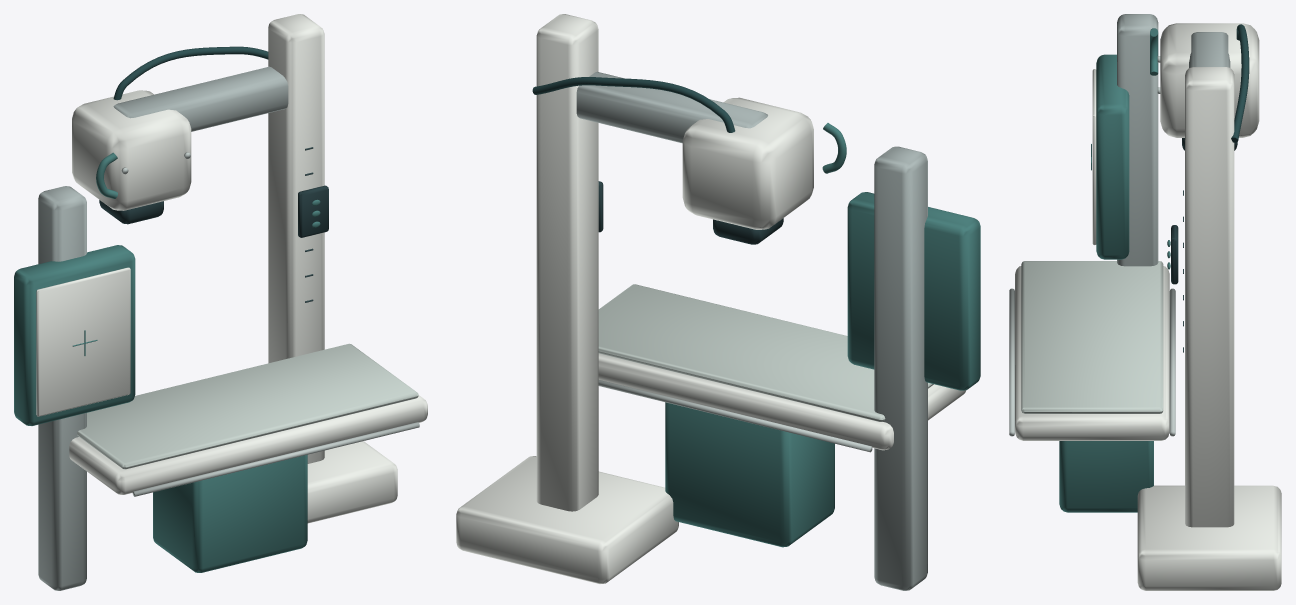
Rendered from xray.glb.
The picture shows the model from 3 angles, left to right: view 1: azimuth 30°, elevation 25°; view 2: azimuth 150°, elevation 25°; view 3: azimuth 270°, elevation 25°; orthographic projection. The views are drawn at different scales.
Parts seen in each view (by area): view 1: TablePad, VerticalSupport, TablePedestal, DetectorSurface, DetectorStand, TubeHousing, TableTop, UprightDetector, ArticulatedArm, GeneratorBase, TableRail, CableConduit (+2 smaller); view 2: VerticalSupport, DetectorStand, TablePad, TablePedestal, GeneratorBase, UprightDetector, TubeHousing, TableTop, ArticulatedArm, CableConduit, TableRail.001, Collimator; view 3: VerticalSupport, TablePad, GeneratorBase, DetectorStand, UprightDetector, TablePedestal, TableTop, TubeHousing, ArticulatedArm, TableRail.001, CableConduit, TableRail (+3 smaller).
Boxes of the visible parts, x1=… form: TablePad: x1=77, y1=343, x2=418, y2=469; VerticalSupport: x1=268, y1=14, x2=324, y2=463; TablePedestal: x1=153, y1=454, x2=307, y2=572; DetectorSurface: x1=36, y1=267, x2=130, y2=416; DetectorStand: x1=38, y1=186, x2=86, y2=590; TubeHousing: x1=72, y1=90, x2=191, y2=210; TableTop: x1=69, y1=395, x2=427, y2=494; UprightDetector: x1=14, y1=245, x2=135, y2=425; ArticulatedArm: x1=113, y1=66, x2=288, y2=131; GeneratorBase: x1=307, y1=441, x2=397, y2=523; TableRail: x1=132, y1=422, x2=419, y2=496; CableConduit: x1=113, y1=46, x2=268, y2=100; VerticalSupport: x1=536, y1=14, x2=598, y2=511; DetectorStand: x1=874, y1=146, x2=927, y2=590; TablePad: x1=598, y1=284, x2=933, y2=421; TablePedestal: x1=665, y1=402, x2=834, y2=547; GeneratorBase: x1=456, y1=456, x2=678, y2=583; UprightDetector: x1=847, y1=192, x2=980, y2=390; TubeHousing: x1=682, y1=97, x2=813, y2=229; TableTop: x1=598, y1=353, x2=965, y2=450; ArticulatedArm: x1=576, y1=71, x2=767, y2=143; CableConduit: x1=532, y1=77, x2=735, y2=132; TableRail.001: x1=598, y1=380, x2=872, y2=452; Collimator: x1=713, y1=218, x2=783, y2=244; VerticalSupport: x1=1185, y1=67, x2=1234, y2=527; TablePad: x1=1021, y1=261, x2=1163, y2=413; GeneratorBase: x1=1137, y1=485, x2=1281, y2=590; DetectorStand: x1=1117, y1=14, x2=1158, y2=266; UprightDetector: x1=1096, y1=54, x2=1129, y2=259; TablePedestal: x1=1059, y1=441, x2=1153, y2=512; TableTop: x1=1015, y1=266, x2=1169, y2=440; TubeHousing: x1=1160, y1=23, x2=1259, y2=137; ArticulatedArm: x1=1189, y1=32, x2=1230, y2=67; TableRail.001: x1=1169, y1=288, x2=1175, y2=436; CableConduit: x1=1231, y1=24, x2=1249, y2=142; TableRail: x1=1009, y1=288, x2=1014, y2=436.
Size of the model in its own units: 2.27 by 2.6 by 1.32.
